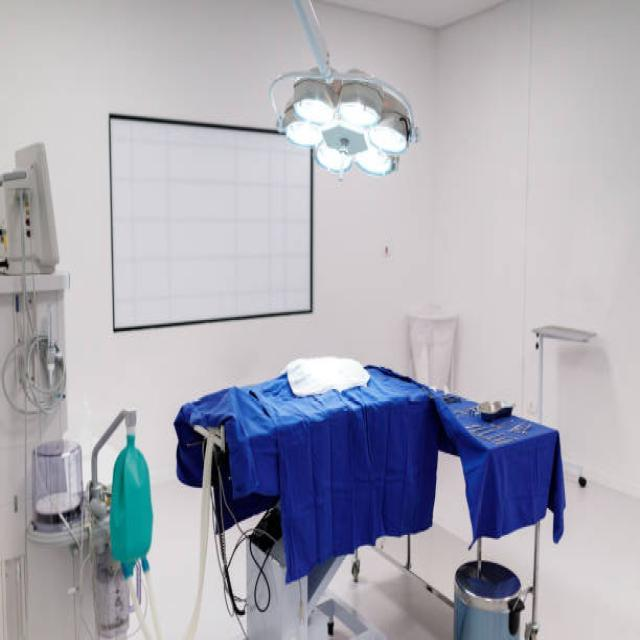Monitor: (0, 136, 66, 293)
bin: (441, 544, 534, 640)
tools_table: (408, 344, 567, 640)
